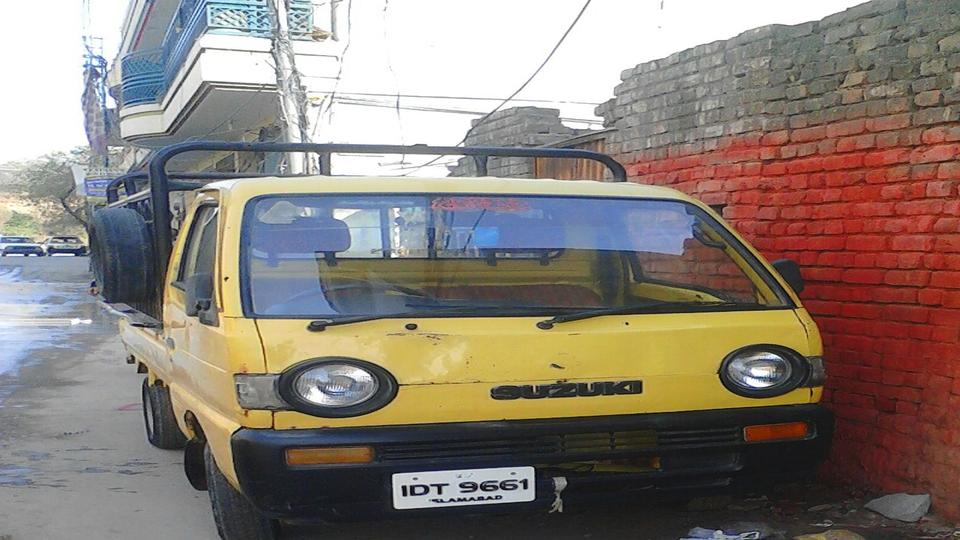NumberPlate: (388, 461, 551, 515)
